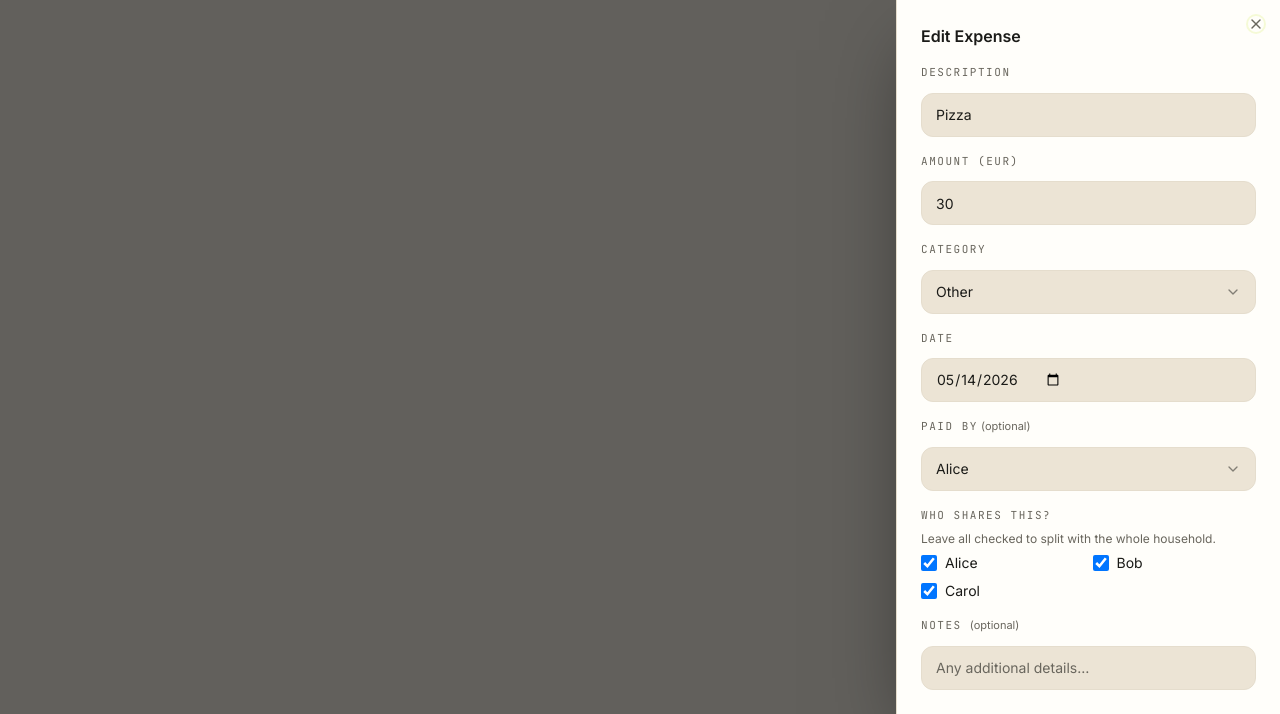
Test case: <AddExpenseForm /> — participant selector (subgroup) › clears paidByUserId when the current payer is unchecked from participants
The image size is (1280, 714).
Expected: the text "PAID BY" shows "Alice", [921,446,1256,490]
Click the checkbox labelled "Alice".
click(929, 563)  # box [921,555,937,571]
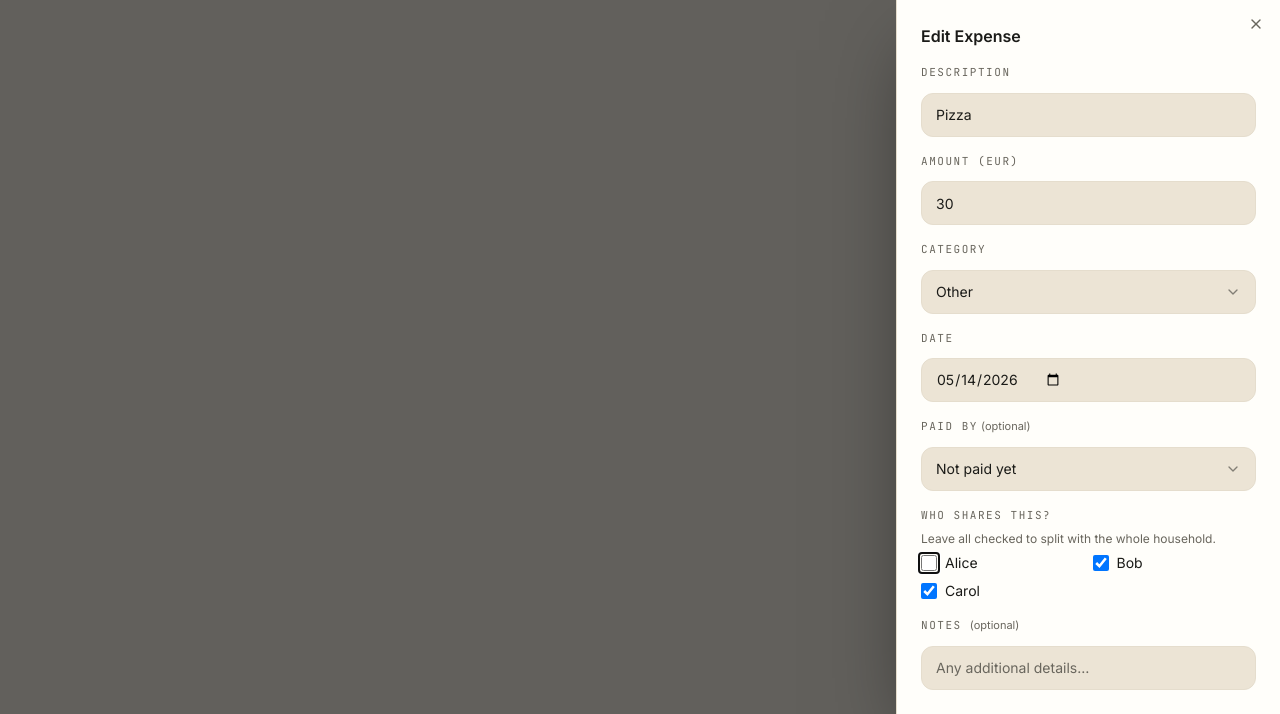
Expected: the checkbox labelled "Alice" is not checked, [921,555,937,571]
Expected: the text "PAID BY" shows "Not paid yet", [921,446,1256,490]
Expected: the dropdown "PAID BY" no longer shows "Alice"
